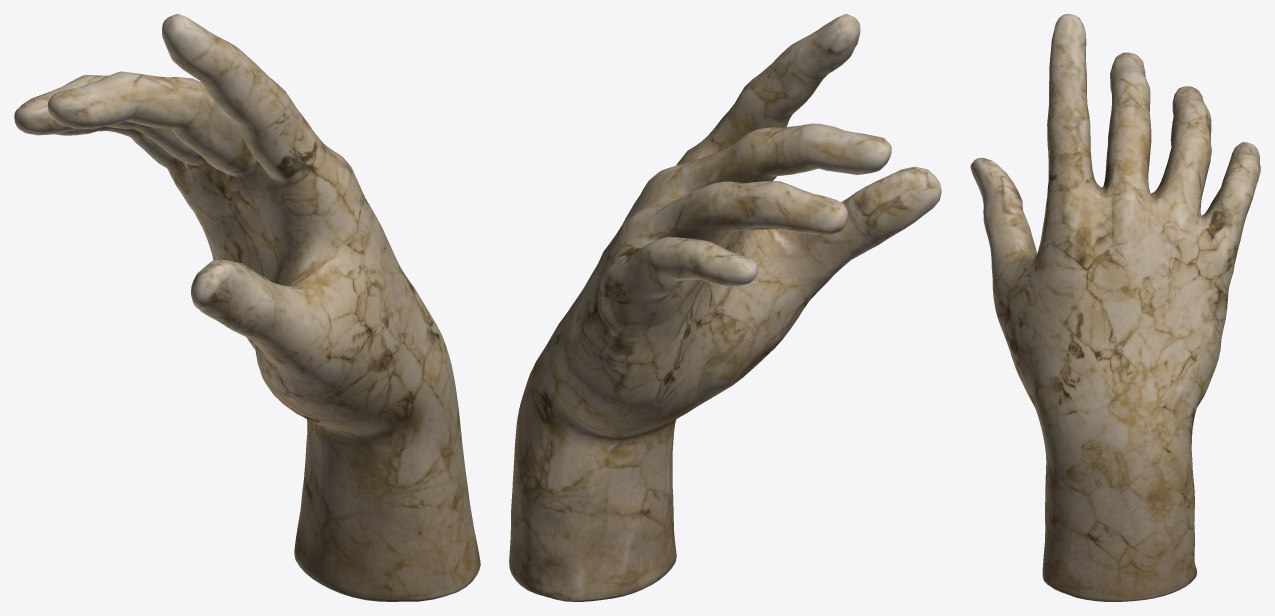
The picture shows the model from 3 angles, left to right: view 1: azimuth 30°, elevation 25°; view 2: azimuth 150°, elevation 25°; view 3: azimuth 270°, elevation 25°; orthographic projection. The views are drawn at different scales.
Parts seen in each view (by area): view 1: hand_low; view 2: hand_low; view 3: hand_low.
Boxes of the visible parts, bbox=[...] form: hand_low: bbox=[14, 14, 480, 601]; hand_low: bbox=[509, 14, 941, 601]; hand_low: bbox=[970, 14, 1260, 601].
Bounding box in the file's own units: 0.4091 × 0.6036 × 0.337.
Materials: 1 (1 with a texture image).
